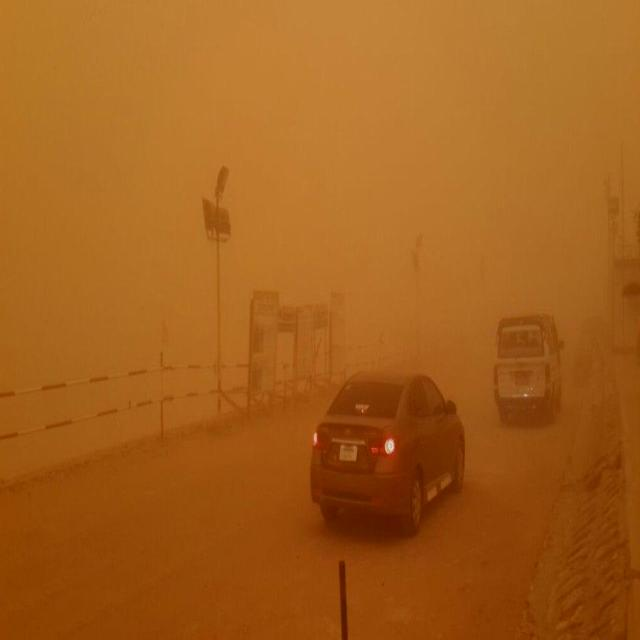Car: (306, 360, 468, 526)
Truck: (491, 287, 566, 427)
